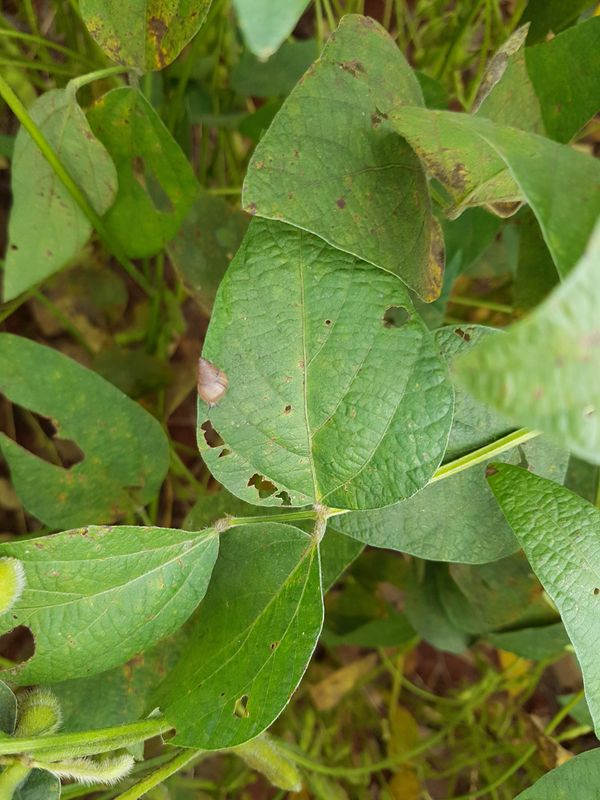Gastropoda: (187, 354, 233, 411)
